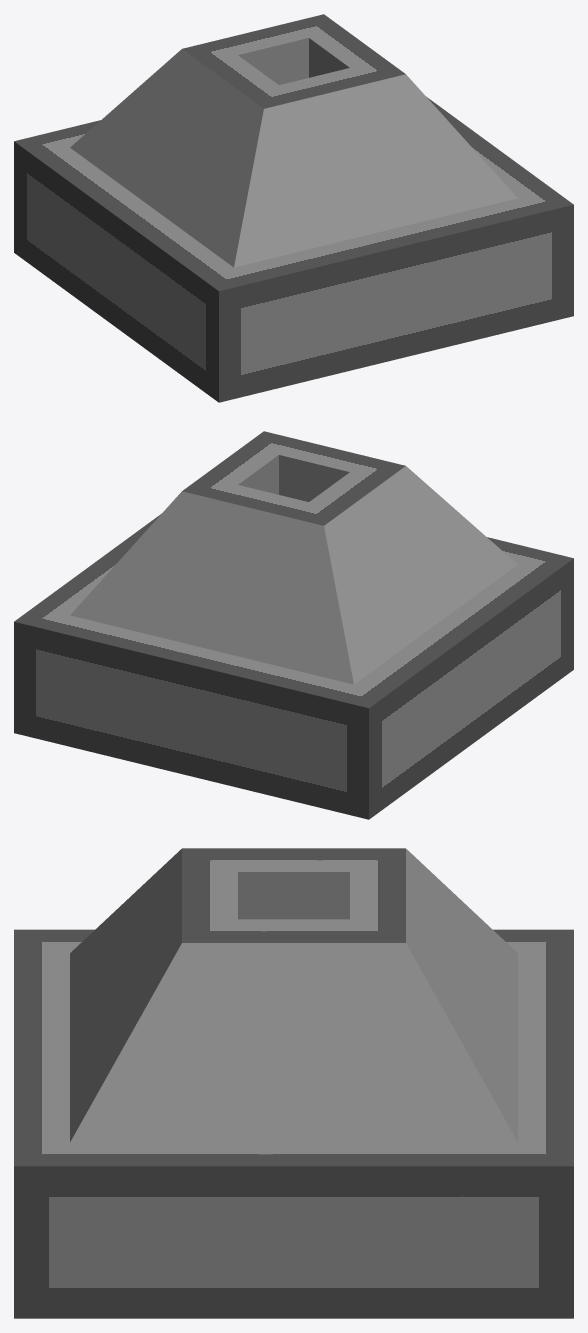
Rendered from recharger-base.obj.
3 views of the same model, one above another, from view 1: azimuth 30°, elevation 25°; view 2: azimuth 150°, elevation 25°; view 3: azimuth 270°, elevation 25° (orthographic). The views are drawn at different scales.
Parts seen in each view (by area): view 1: base_Cube.001; view 2: base_Cube.001; view 3: base_Cube.001.
Boxes of the visible parts, x1=… form: base_Cube.001: x1=14, y1=14, x2=573, y2=402; base_Cube.001: x1=14, y1=431, x2=573, y2=819; base_Cube.001: x1=14, y1=848, x2=573, y2=1318.
Size of the model in its own units: 1 by 0.6 by 1.
